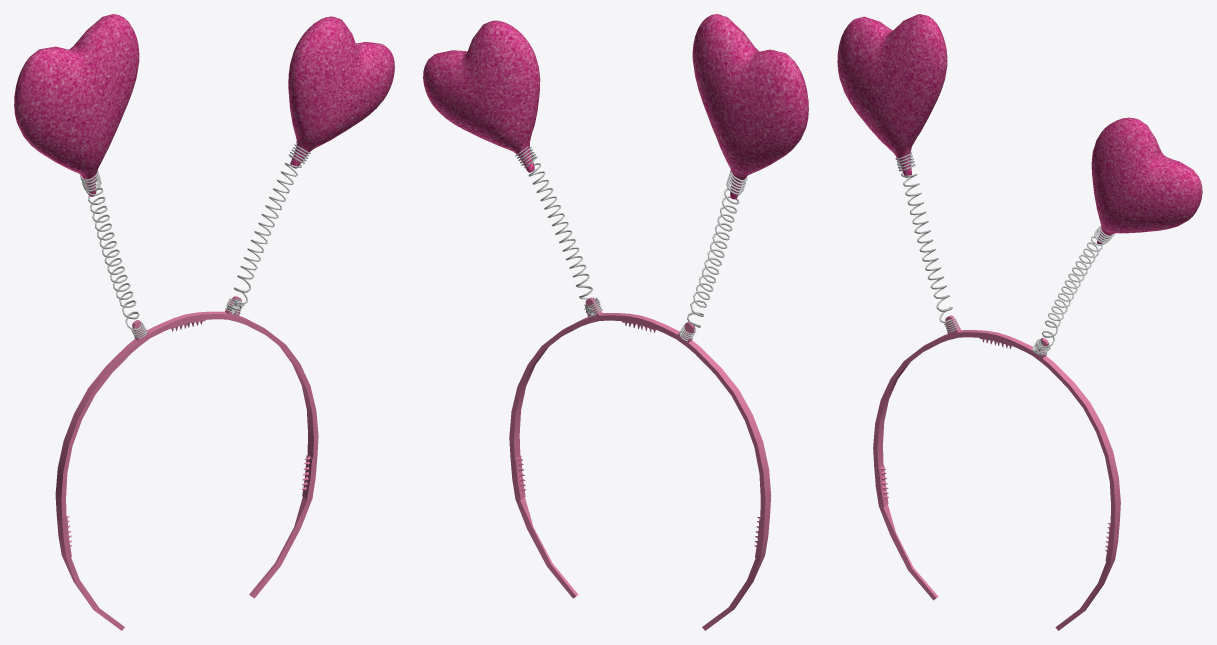
3 views of the same model, side by side, from view 1: azimuth 30°, elevation 25°; view 2: azimuth 150°, elevation 25°; view 3: azimuth 330°, elevation 25° (orthographic). The views are drawn at different scales.
Visible parts, largest first — view 1: Hairband; view 2: Hairband; view 3: Hairband.
Boxes of the visible parts, x1,y1,x2,y2 form: Hairband: (14, 14, 394, 630); Hairband: (423, 14, 808, 630); Hairband: (837, 14, 1202, 630).
Size of the model in its own units: 1.73 by 2.68 by 0.2425.
1 material, 1 textured.
